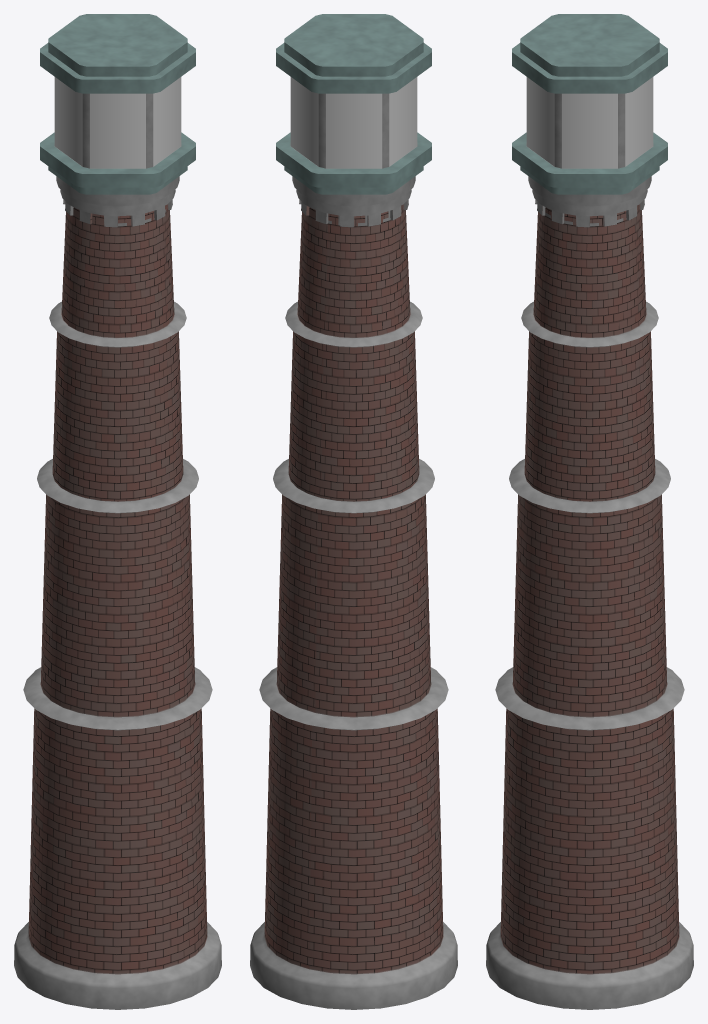
The model's file is tower.fbx.
3 renders of one model, left to right at view 1: azimuth 30°, elevation 25°; view 2: azimuth 150°, elevation 25°; view 3: azimuth 270°, elevation 25°, orthographic.
Parts seen in each view (by area): view 1: M_Window; view 2: M_Window; view 3: M_Window.
Part boxes in pixels (left/top/right/bottom): M_Window: left=14, top=14, right=221, bottom=1009; M_Window: left=250, top=14, right=457, bottom=1009; M_Window: left=486, top=14, right=693, bottom=1009.
Bounding box in the file's own units: 158 × 775 × 158.
